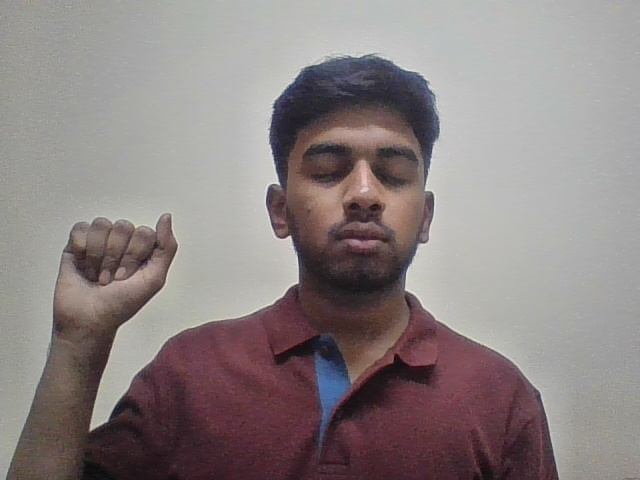A: (33, 201, 187, 339)
